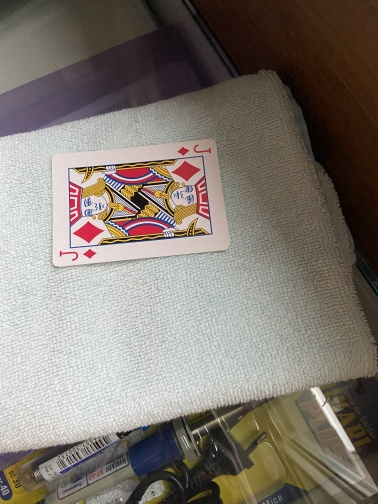jack: (49, 137, 231, 269)
